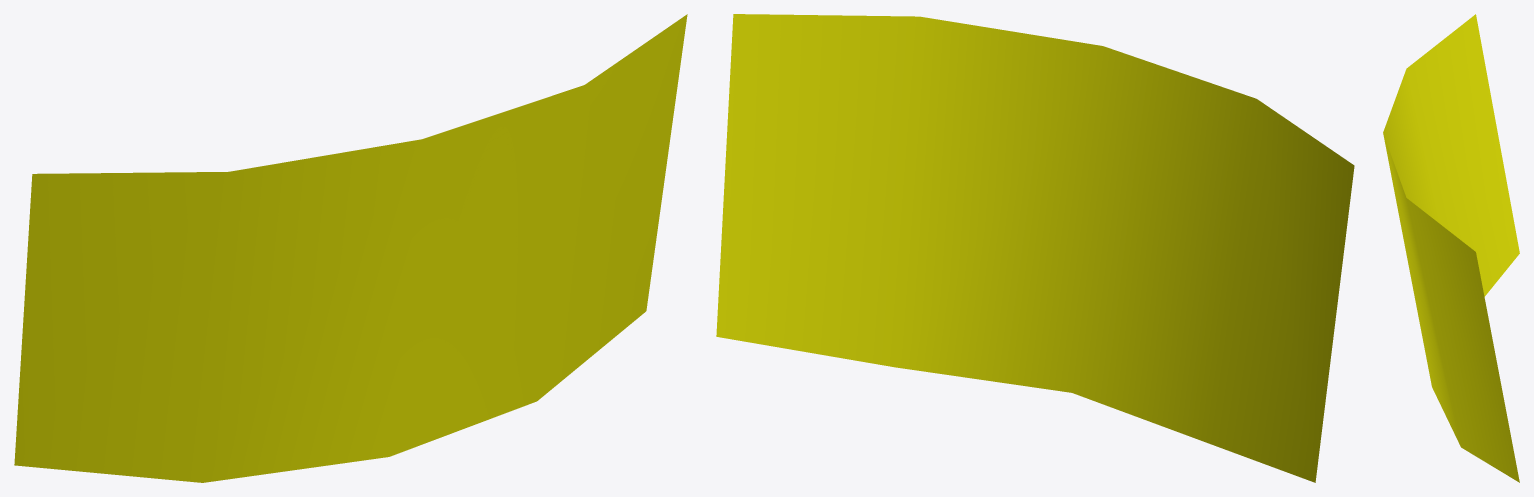
The model's file is char_glassesModel.glb.
3 views of the same model, side by side, from view 1: azimuth 30°, elevation 25°; view 2: azimuth 150°, elevation 25°; view 3: azimuth 270°, elevation 25° (orthographic). The views are drawn at different scales.
Parts seen in each view (by area): view 1: char_glass; view 2: char_glass; view 3: char_glass.
Part boxes in pixels (left/top/right/bottom): char_glass: left=14, top=14, right=687, bottom=482; char_glass: left=716, top=14, right=1354, bottom=482; char_glass: left=1383, top=14, right=1519, bottom=482.
Size of the model in its own units: 0.4227 by 0.2107 by 0.1027.
Materials: 1 (1 with a texture image).
